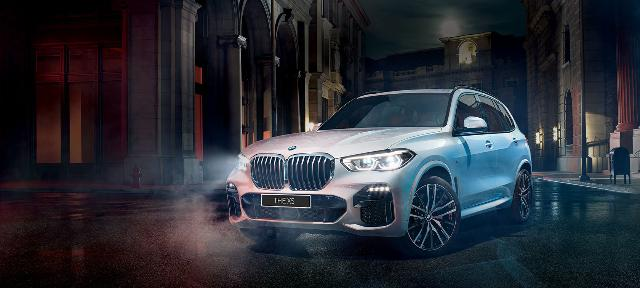bmw: (226, 85, 534, 255)
